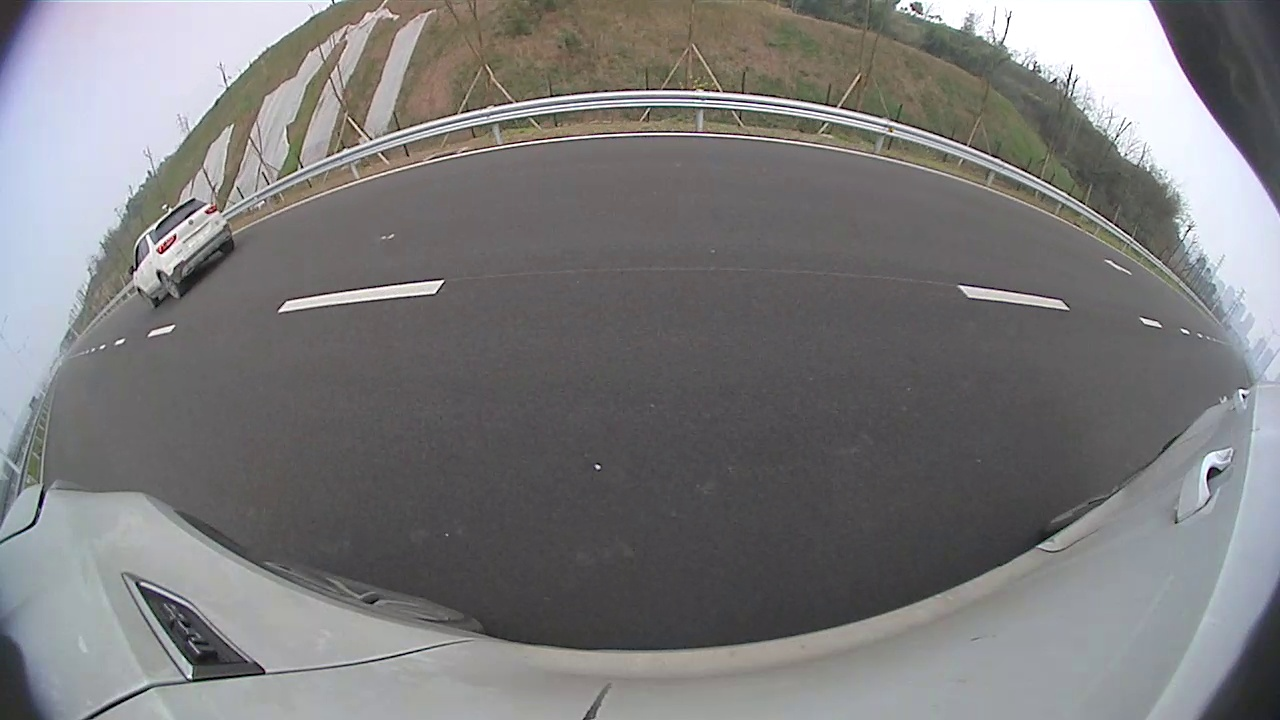car: (128, 197, 235, 310)
rear: (156, 270, 182, 302)
